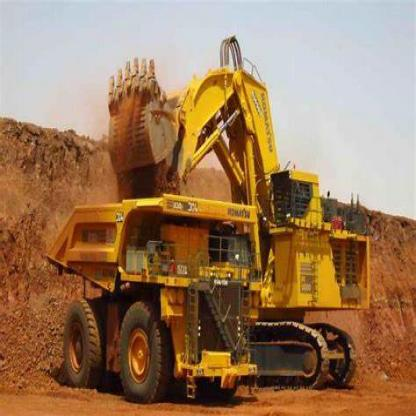dump_truck: (33, 193, 265, 403)
